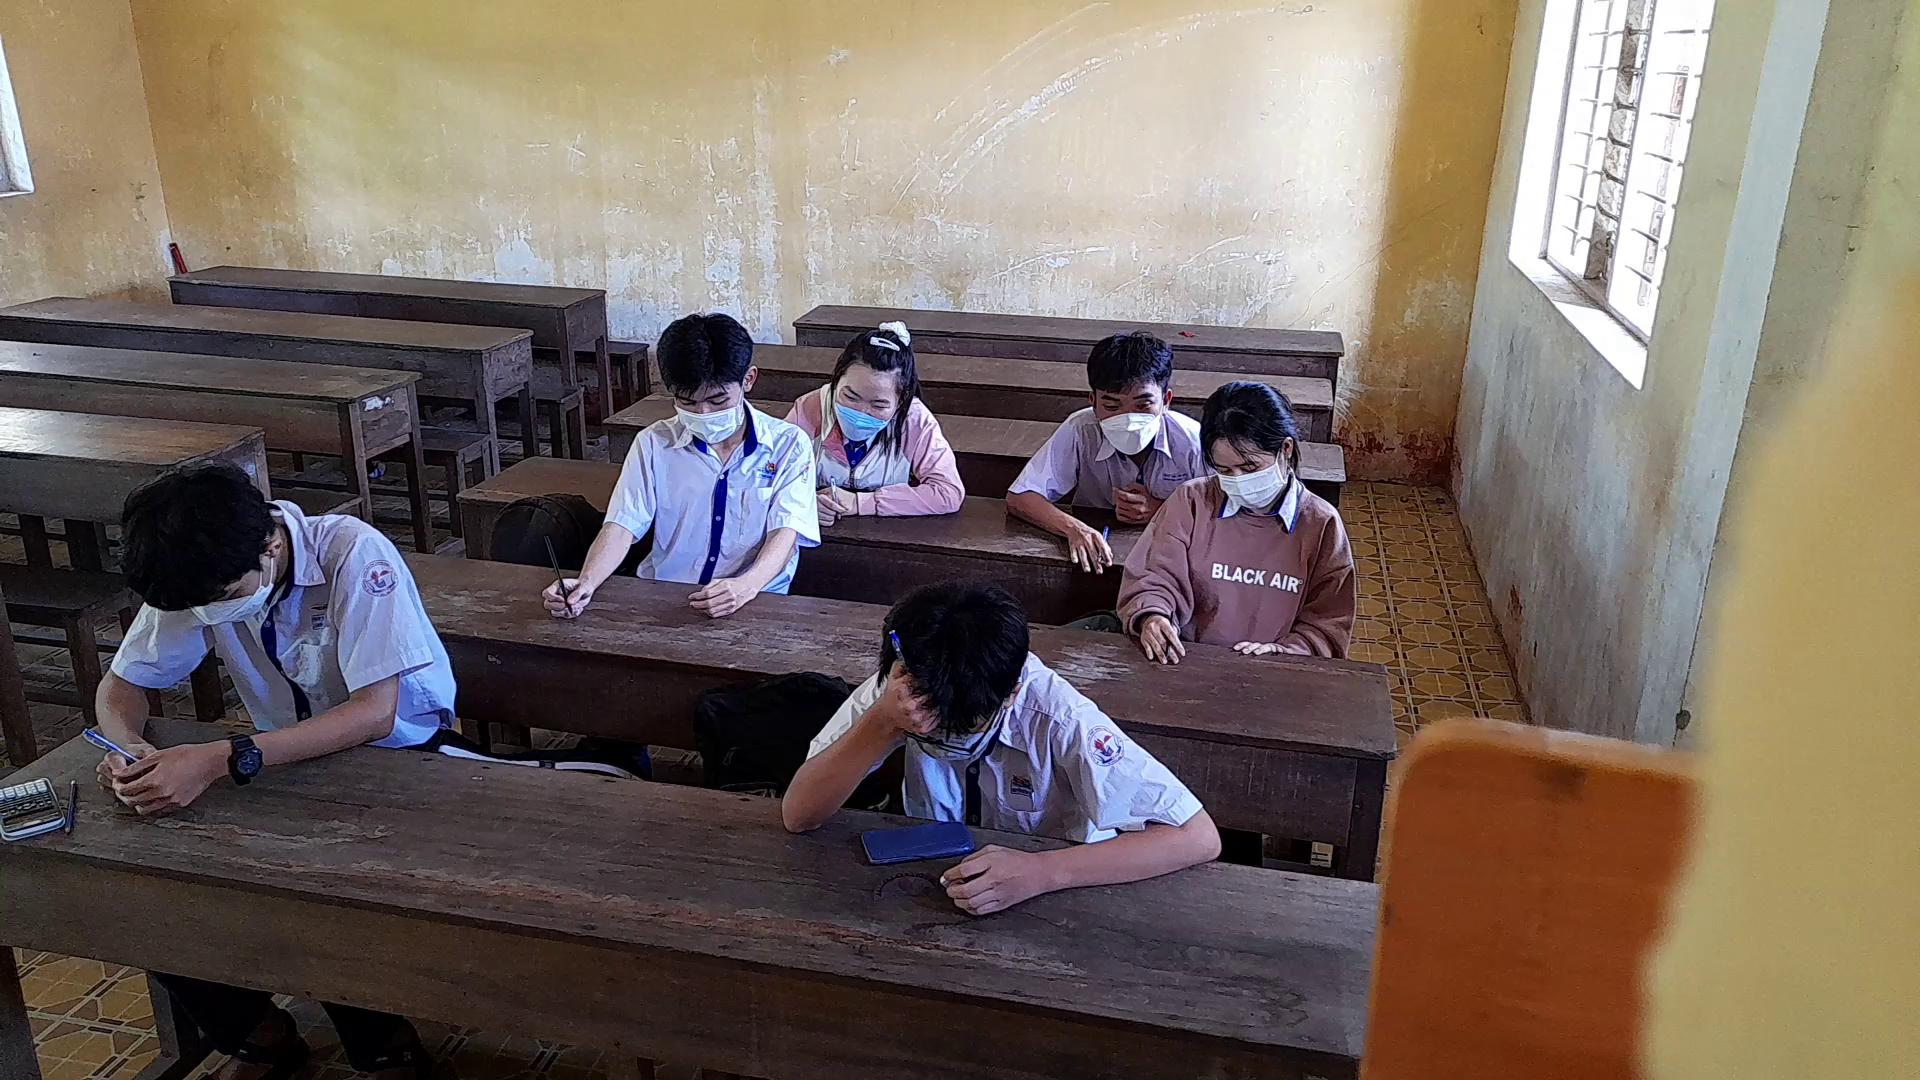Bend Over The Desk: (1188, 367, 1317, 531), (640, 309, 771, 459)
Hand Under Table: (1237, 509, 1374, 669)
Normal: (98, 438, 462, 818), (1017, 316, 1189, 556), (799, 295, 972, 534)
Wave: (778, 645, 947, 839)
